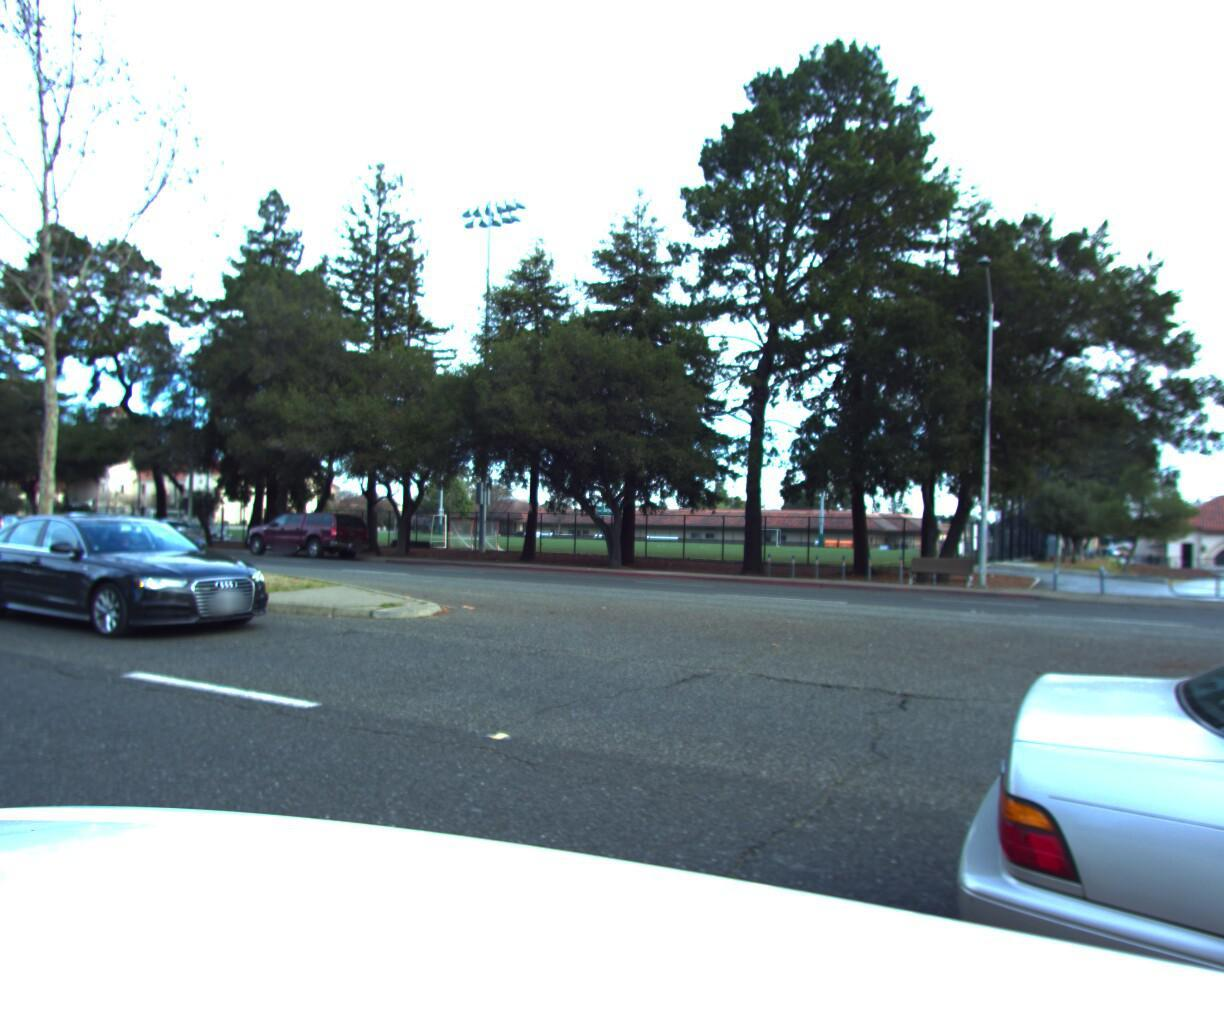car: (815, 557, 1224, 1024), (0, 508, 288, 647), (236, 504, 375, 558), (110, 513, 211, 550), (0, 510, 56, 541), (0, 500, 7, 547)
